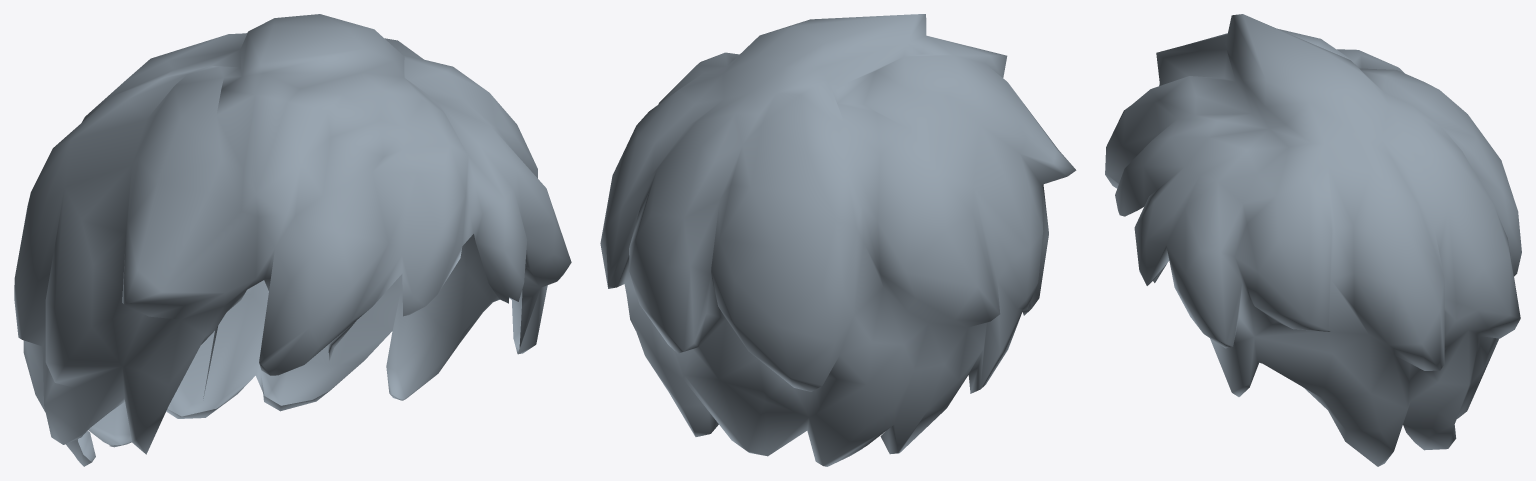
File: cabelo_1.glb
3 views of the same model, side by side, from view 1: azimuth 30°, elevation 25°; view 2: azimuth 150°, elevation 25°; view 3: azimuth 270°, elevation 25° (orthographic). The views are drawn at different scales.
Parts seen in each view (by area): view 1: cabelo_1; view 2: cabelo_1; view 3: cabelo_1.
Boxes of the visible parts, box(x1,y1,x2,y2) form: cabelo_1: box(14, 14, 571, 466); cabelo_1: box(600, 14, 1076, 466); cabelo_1: box(1105, 14, 1521, 466).
Bounding box in the file's own units: 0.2024 × 0.1887 × 0.1891.
